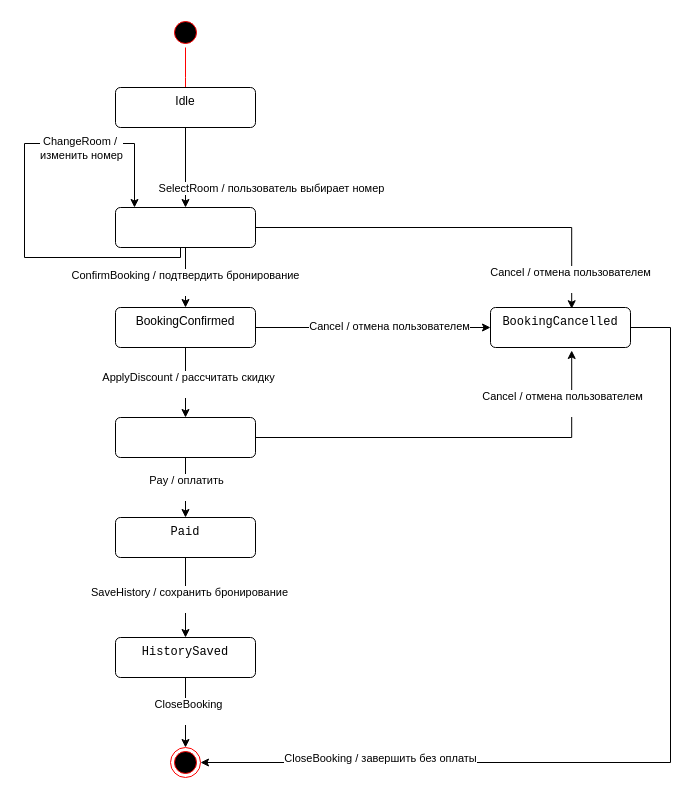
The diagram is 696 pixels wide and 795 high, and some of its shapes have lost their labels. Each missing label, with the centre of its shape:
"DiscountCalculated" belongs at [185,437].
"RoomSelected" belongs at [185,227].
